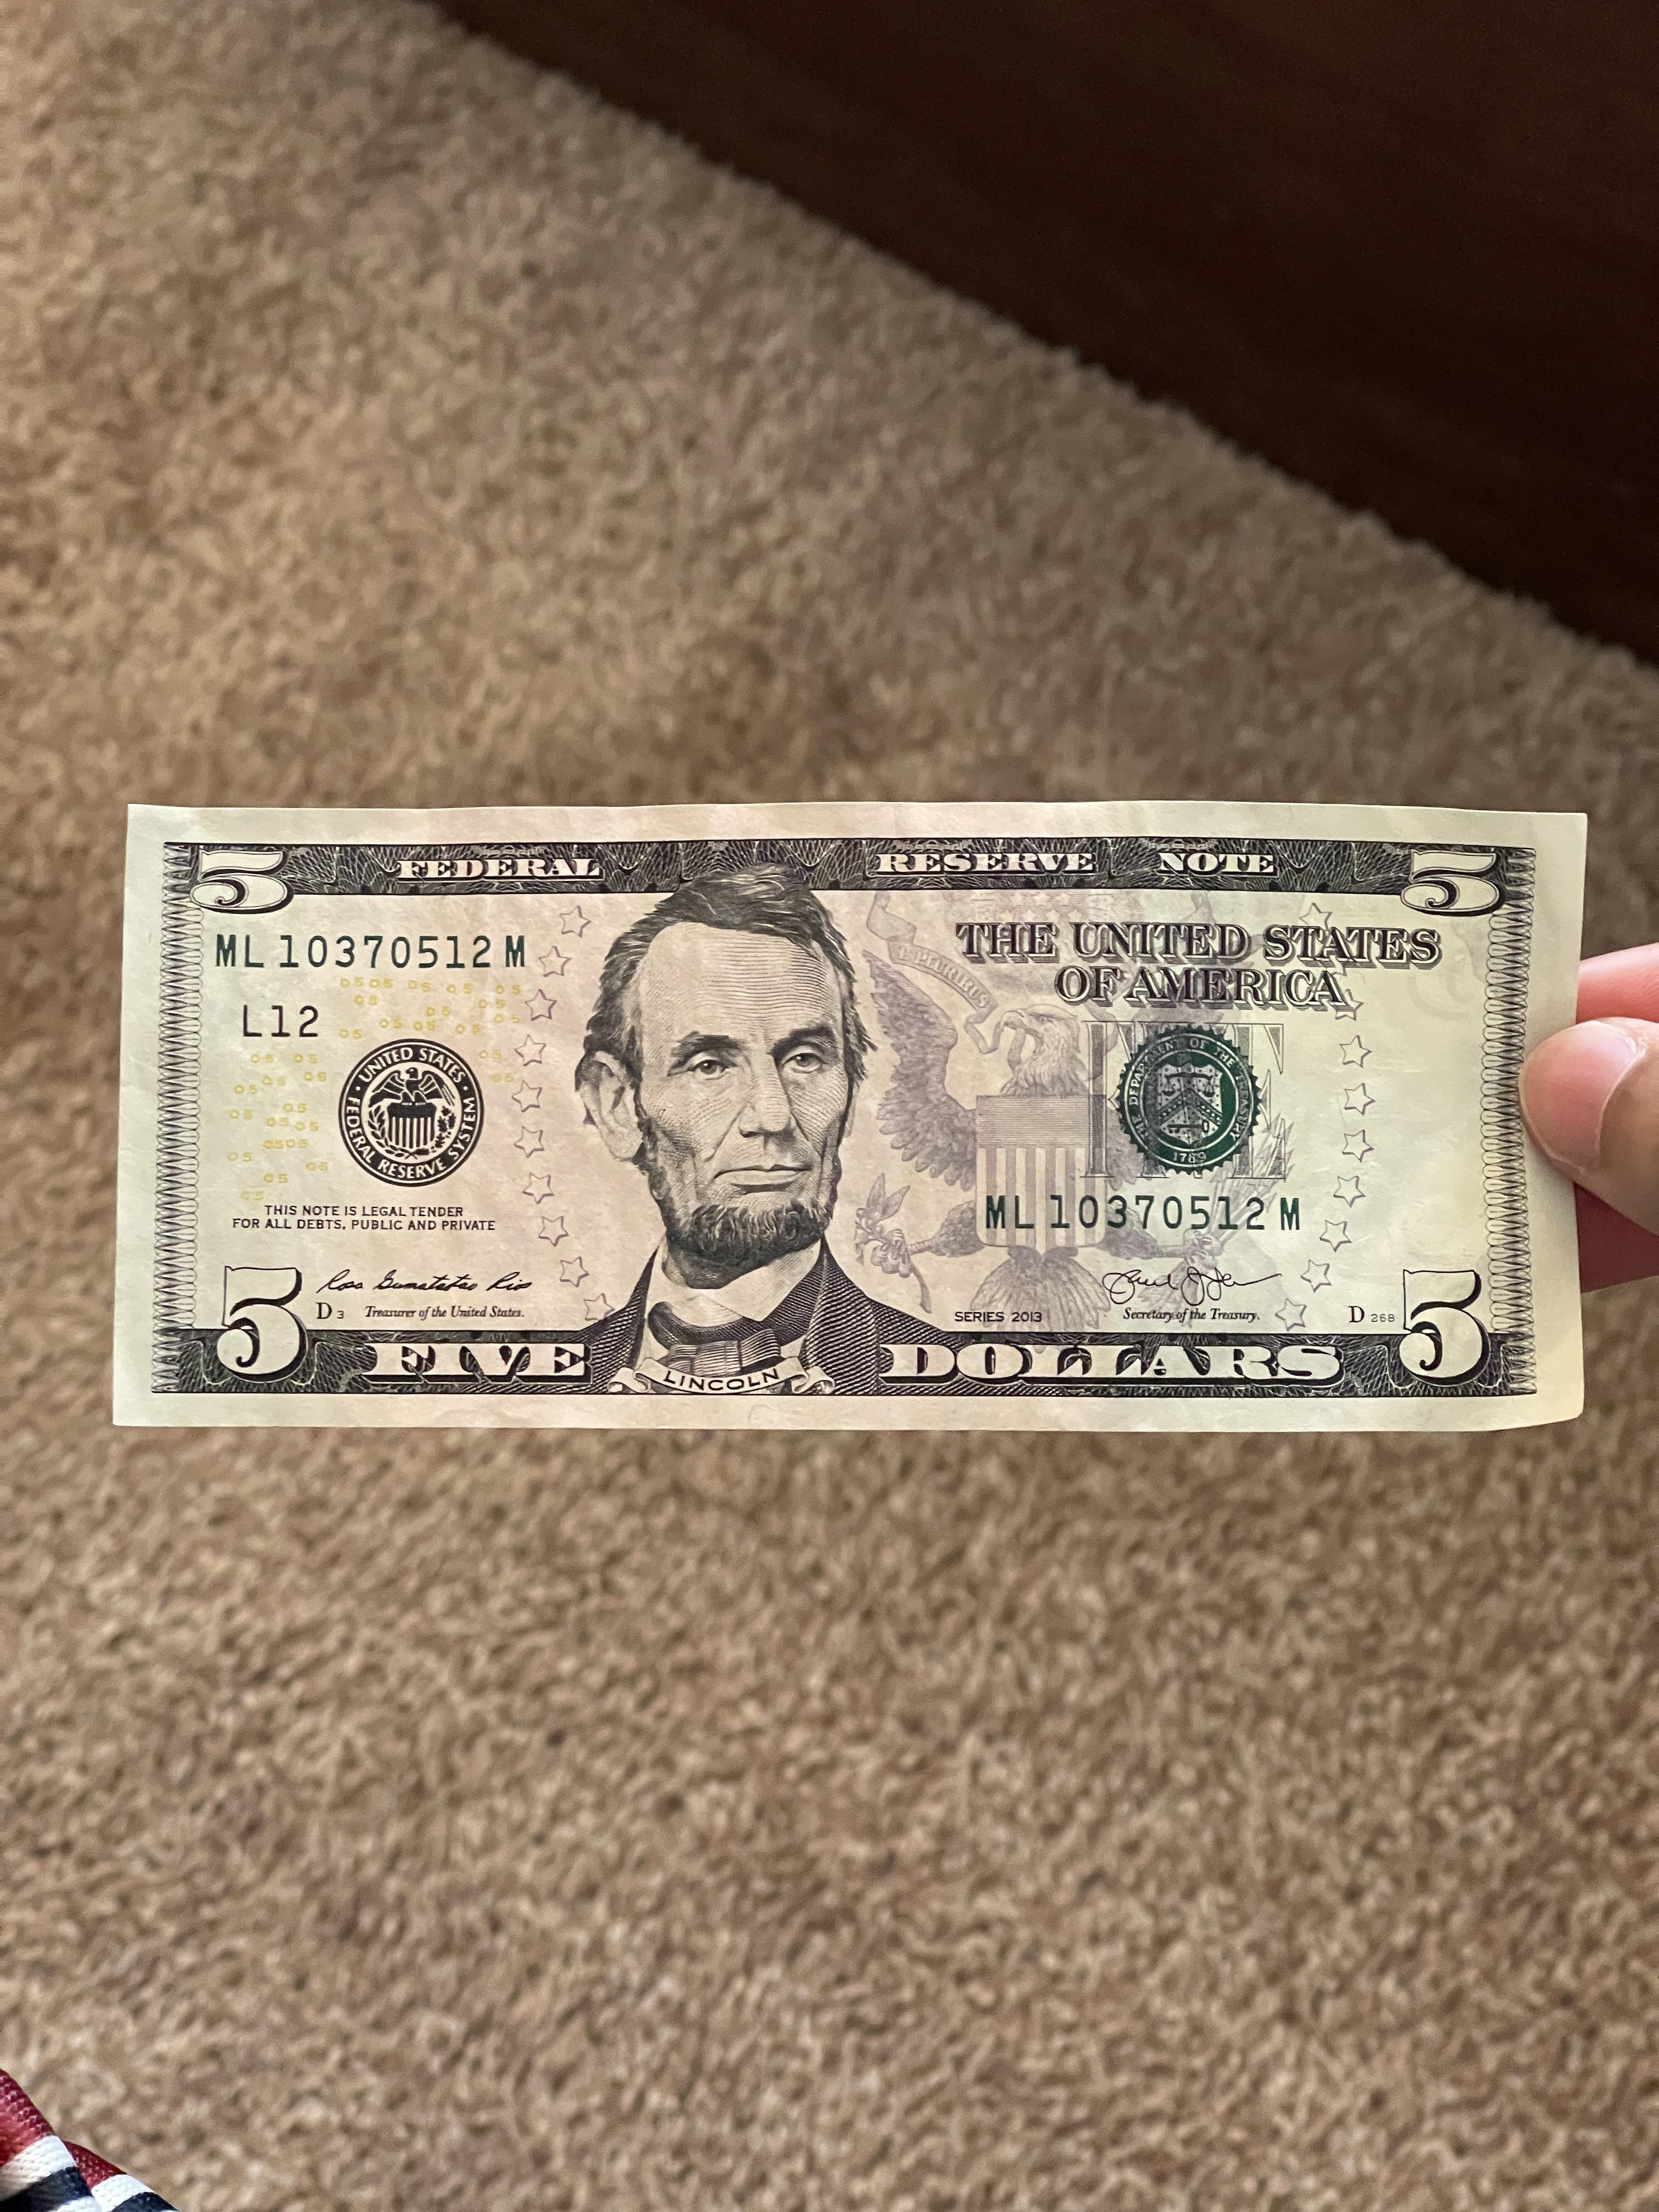FiveBill: (106, 791, 1595, 1439)
